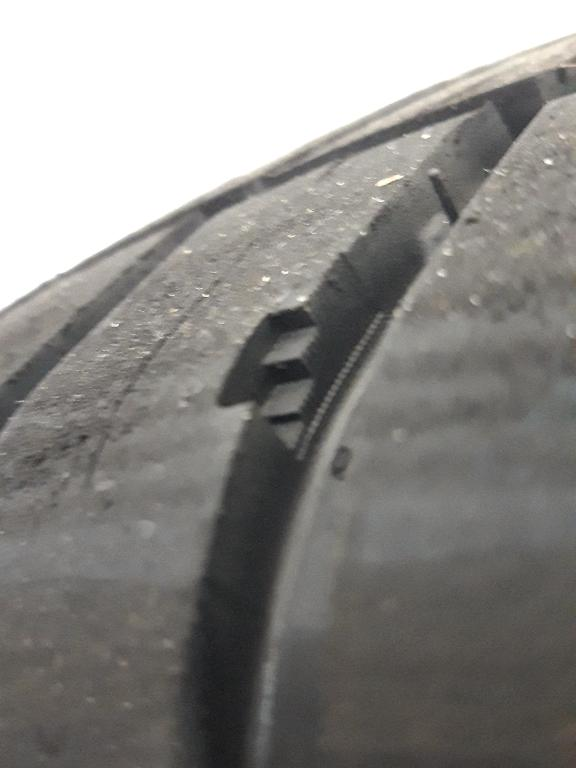temoin:75: (203, 264, 372, 476)
